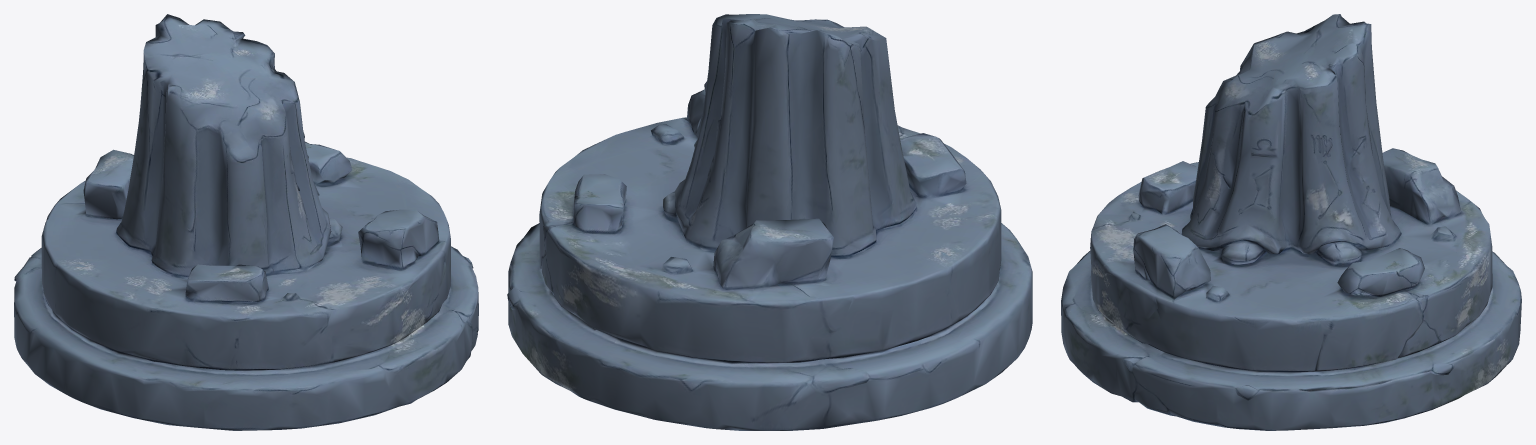
File: arena_plinth.glb
The picture shows the model from 3 angles, left to right: view 1: azimuth 30°, elevation 25°; view 2: azimuth 150°, elevation 25°; view 3: azimuth 270°, elevation 25°; orthographic projection. The views are drawn at different scales.
Parts seen in each view (by area): view 1: tripo_node_d659e080-6585-449c-9154-f655f0d4a1f1; view 2: tripo_node_d659e080-6585-449c-9154-f655f0d4a1f1; view 3: tripo_node_d659e080-6585-449c-9154-f655f0d4a1f1.
Part boxes in pixels (left/top/right/bottom): tripo_node_d659e080-6585-449c-9154-f655f0d4a1f1: left=14, top=14, right=478, bottom=430; tripo_node_d659e080-6585-449c-9154-f655f0d4a1f1: left=507, top=14, right=1032, bottom=430; tripo_node_d659e080-6585-449c-9154-f655f0d4a1f1: left=1061, top=14, right=1521, bottom=430.
Bounding box in the file's own units: 0.9968 × 0.7082 × 1.
1 material, 1 textured.
